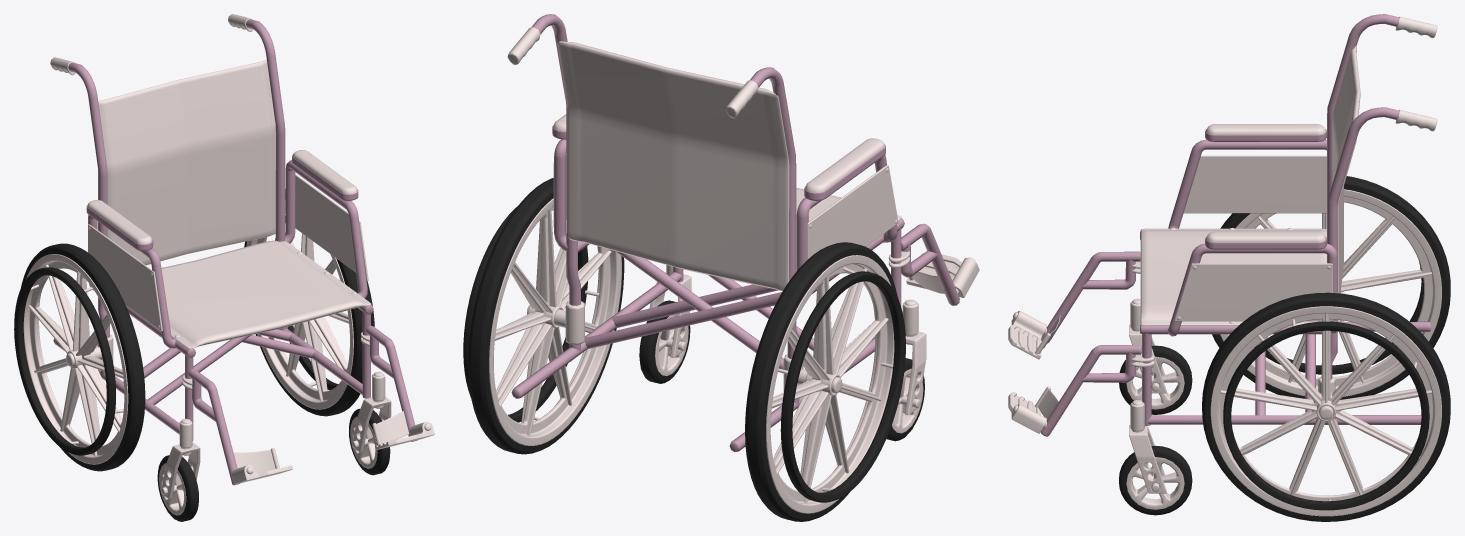
The model's file is icons8_wheelchair.glb.
The picture shows the model from 3 angles, left to right: view 1: azimuth 30°, elevation 25°; view 2: azimuth 150°, elevation 25°; view 3: azimuth 270°, elevation 25°; orthographic projection. The views are drawn at different scales.
Parts seen in each view (by area): view 1: icons8_wheelchair; view 2: icons8_wheelchair; view 3: icons8_wheelchair.
Boxes of the visible parts, x1,y1,x2,y2 form: icons8_wheelchair: (14, 14, 434, 521); icons8_wheelchair: (463, 14, 979, 521); icons8_wheelchair: (1008, 14, 1450, 521).
Bounding box in the file's own units: 1.48 × 2 × 1.99.
1 material, 1 textured.
